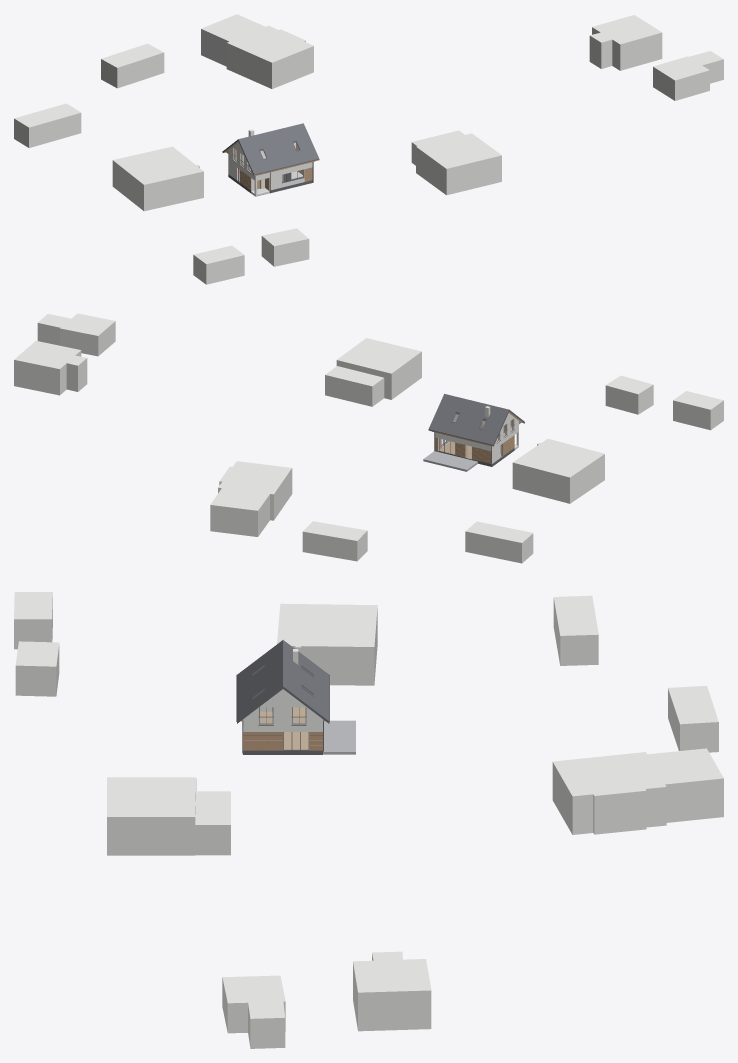
Rendered from dom_w_gnieznikach.glb.
The picture shows the model from 3 angles, top to bottom: view 1: azimuth 30°, elevation 25°; view 2: azimuth 150°, elevation 25°; view 3: azimuth 270°, elevation 25°; orthographic projection. The views are drawn at different scales.
Parts seen in each view (by area): view 1: Sasiad_neighbor_12, Sasiad_neighbor_07, Sasiad_neighbor_05, Sasiad_neighbor_11, Dach_rp_south, Sasiad_neighbor_03, Sasiad_neighbor_10, Sasiad_neighbor_08, Sasiad_neighbor_09, Sasiad_neighbor_01, Sasiad_neighbor_02, Sasiad_neighbor_06; view 2: Sasiad_neighbor_12, Sasiad_neighbor_07, Sasiad_neighbor_11, Sasiad_neighbor_05, Dach_rp_north, Sasiad_neighbor_03, Sasiad_neighbor_10, Sasiad_neighbor_04, Sasiad_neighbor_08, Sasiad_neighbor_09, Sasiad_neighbor_02, Sasiad_neighbor_06 (+2 smaller); view 3: Sasiad_neighbor_12, Sasiad_neighbor_05, Sasiad_neighbor_07, Sasiad_neighbor_11, Sasiad_neighbor_03, Sasiad_neighbor_10, Sasiad_neighbor_09, Sasiad_neighbor_04, Dach_rp_south, Dach_rp_north, Sasiad_neighbor_08, Sasiad_neighbor_06 (+4 smaller).
Boxes of the visible parts, left/top/right/bottom form: Sasiad_neighbor_12: left=201, top=14, right=313, bottom=88; Sasiad_neighbor_07: left=112, top=146, right=203, bottom=211; Sasiad_neighbor_05: left=416, top=133, right=501, bottom=195; Sasiad_neighbor_11: left=589, top=15, right=662, bottom=70; Dach_rp_south: left=238, top=123, right=318, bottom=174; Sasiad_neighbor_03: left=14, top=103, right=81, bottom=147; Sasiad_neighbor_10: left=101, top=43, right=164, bottom=88; Sasiad_neighbor_08: left=193, top=245, right=244, bottom=284; Sasiad_neighbor_09: left=261, top=228, right=309, bottom=266; Sasiad_neighbor_01: left=667, top=65, right=709, bottom=100; Sasiad_neighbor_02: left=653, top=56, right=701, bottom=95; Sasiad_neighbor_06: left=689, top=51, right=723, bottom=83; Sasiad_neighbor_12: left=210, top=461, right=292, bottom=536; Sasiad_neighbor_07: left=512, top=439, right=604, bottom=503; Sasiad_neighbor_11: left=14, top=341, right=87, bottom=395; Sasiad_neighbor_05: left=336, top=338, right=421, bottom=399; Dach_rp_north: left=429, top=394, right=508, bottom=444; Sasiad_neighbor_03: left=465, top=521, right=533, bottom=563; Sasiad_neighbor_10: left=302, top=521, right=367, bottom=561; Sasiad_neighbor_04: left=325, top=366, right=384, bottom=406; Sasiad_neighbor_08: left=673, top=391, right=723, bottom=430; Sasiad_neighbor_09: left=605, top=375, right=653, bottom=414; Sasiad_neighbor_02: left=60, top=318, right=109, bottom=356; Sasiad_neighbor_06: left=37, top=314, right=70, bottom=345; Sasiad_neighbor_12: left=552, top=748, right=723, bottom=834; Sasiad_neighbor_05: left=107, top=777, right=196, bottom=855; Sasiad_neighbor_07: left=277, top=603, right=377, bottom=685; Sasiad_neighbor_11: left=353, top=951, right=431, bottom=1031; Sasiad_neighbor_03: left=553, top=595, right=598, bottom=665; Sasiad_neighbor_10: left=668, top=685, right=718, bottom=752; Sasiad_neighbor_09: left=15, top=641, right=59, bottom=696; Sasiad_neighbor_04: left=195, top=791, right=230, bottom=855; Dach_rp_south: left=237, top=640, right=282, bottom=720; Dach_rp_north: left=283, top=640, right=328, bottom=720; Sasiad_neighbor_08: left=14, top=592, right=52, bottom=649; Sasiad_neighbor_06: left=248, top=1002, right=285, bottom=1048.
Size of the model in its own units: 107 by 8.51 by 74.94.
